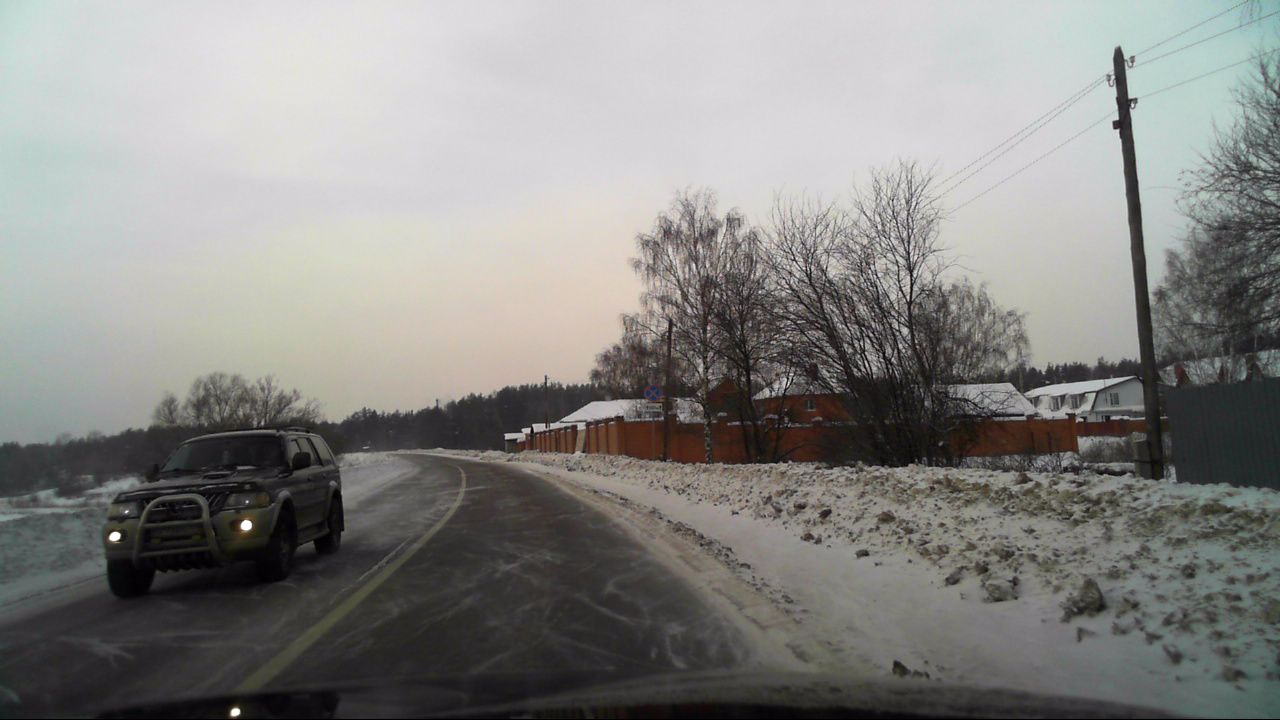No Parking: (644, 383, 662, 401)
